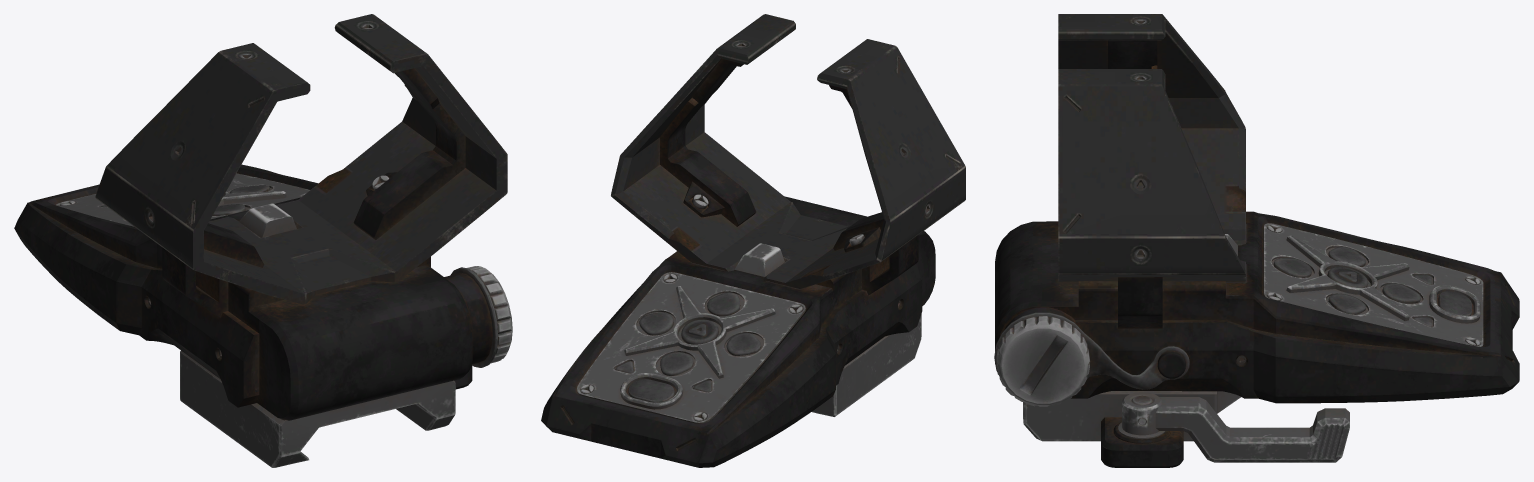
The model's file is Sight_18.glb.
3 views of the same model, side by side, from view 1: azimuth 30°, elevation 25°; view 2: azimuth 150°, elevation 25°; view 3: azimuth 270°, elevation 25° (orthographic). The views are drawn at different scales.
Parts seen in each view (by area): view 1: Sight_18; view 2: Sight_18; view 3: Sight_18.
Boxes of the visible parts, x1,y1,x2,y2 form: Sight_18: [14, 14, 512, 467]; Sight_18: [541, 14, 965, 467]; Sight_18: [994, 14, 1519, 467].
Bounding box in the file's own units: 0.0491 × 0.0552 × 0.0744.
Materials: 1 (1 with a texture image).
